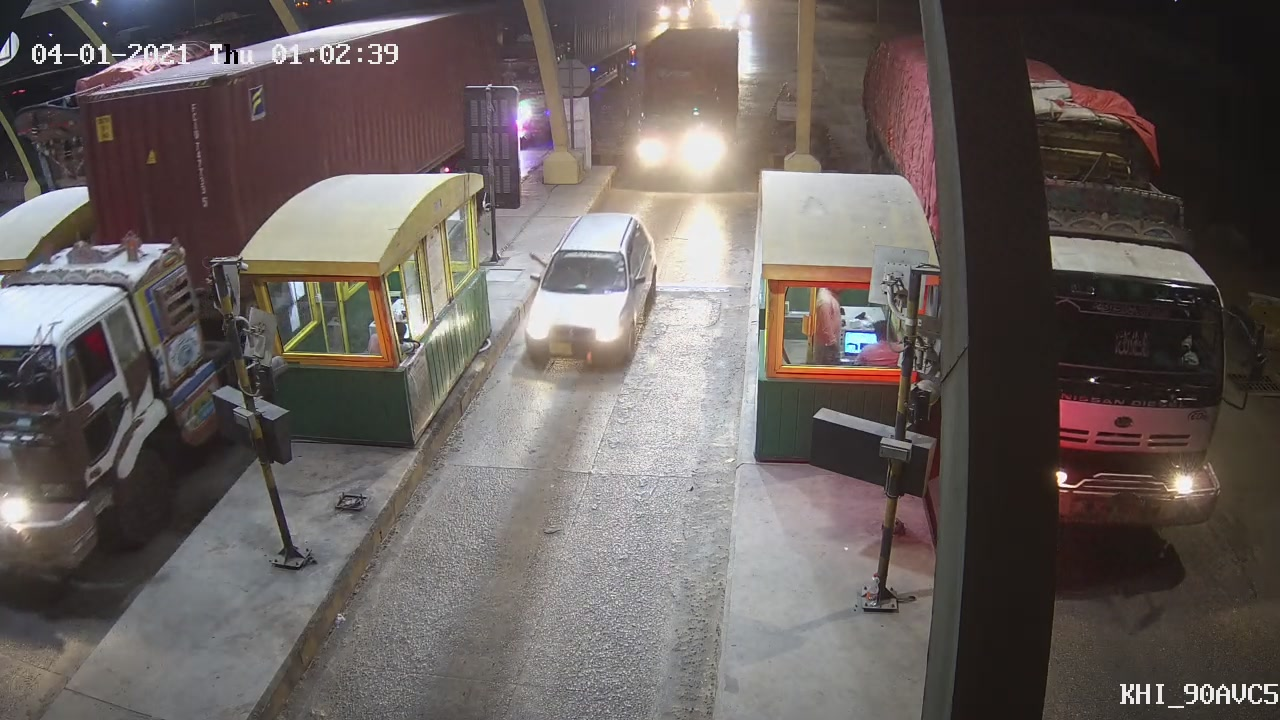F1: (513, 207, 660, 375)
